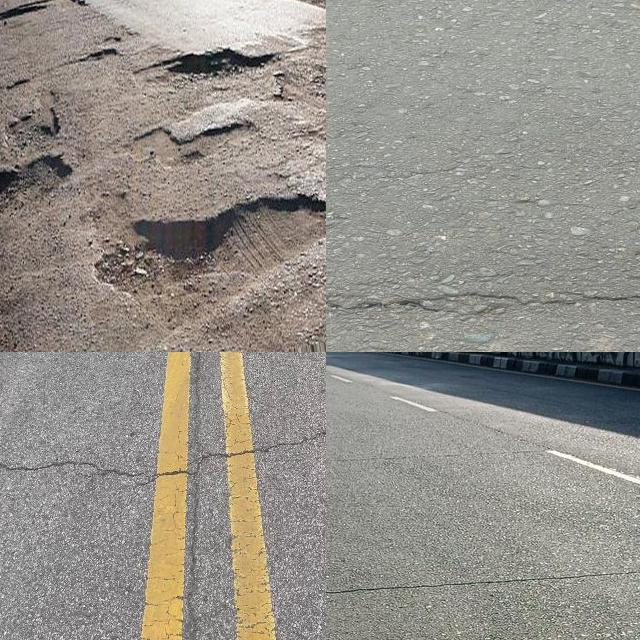Lubang: (86, 192, 326, 310), (0, 158, 74, 230), (166, 54, 265, 100)
Melintang: (326, 555, 640, 606), (326, 277, 640, 325), (0, 451, 205, 490), (208, 421, 326, 466)
